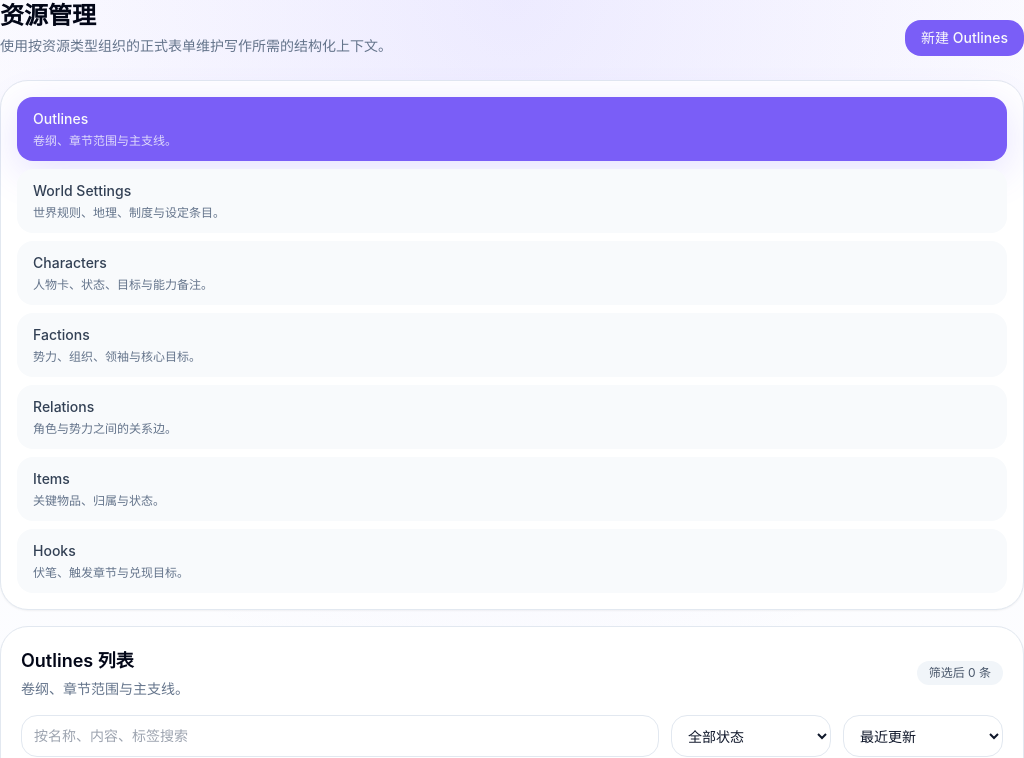
Test: ResourcesPage › shows localized relation meta on relation cards
Click the button "Relations 角色与势力之间的关系边。" at (64, 406), box [17,385,1007,449]
(page scrolled)
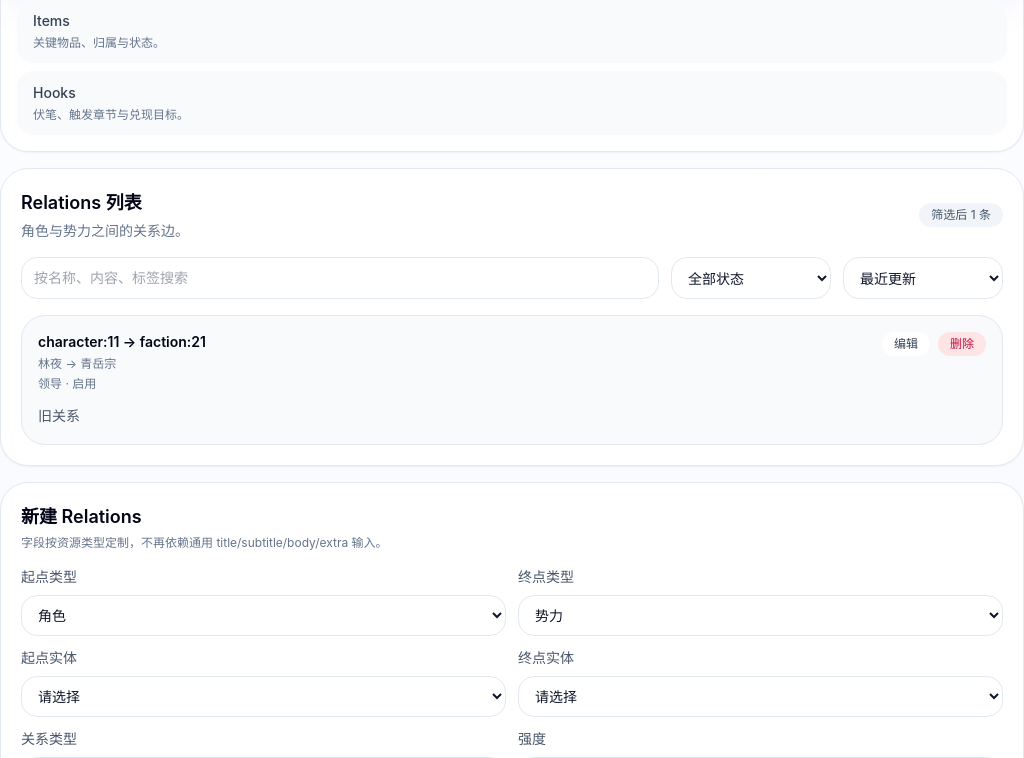
Result: the text "领导 · 启用" is shown at [38,376,96,391]
